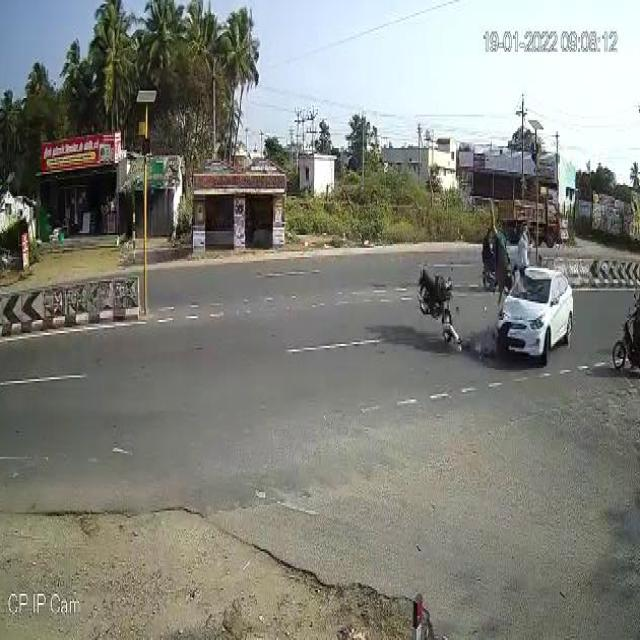accident: (414, 197, 576, 375)
